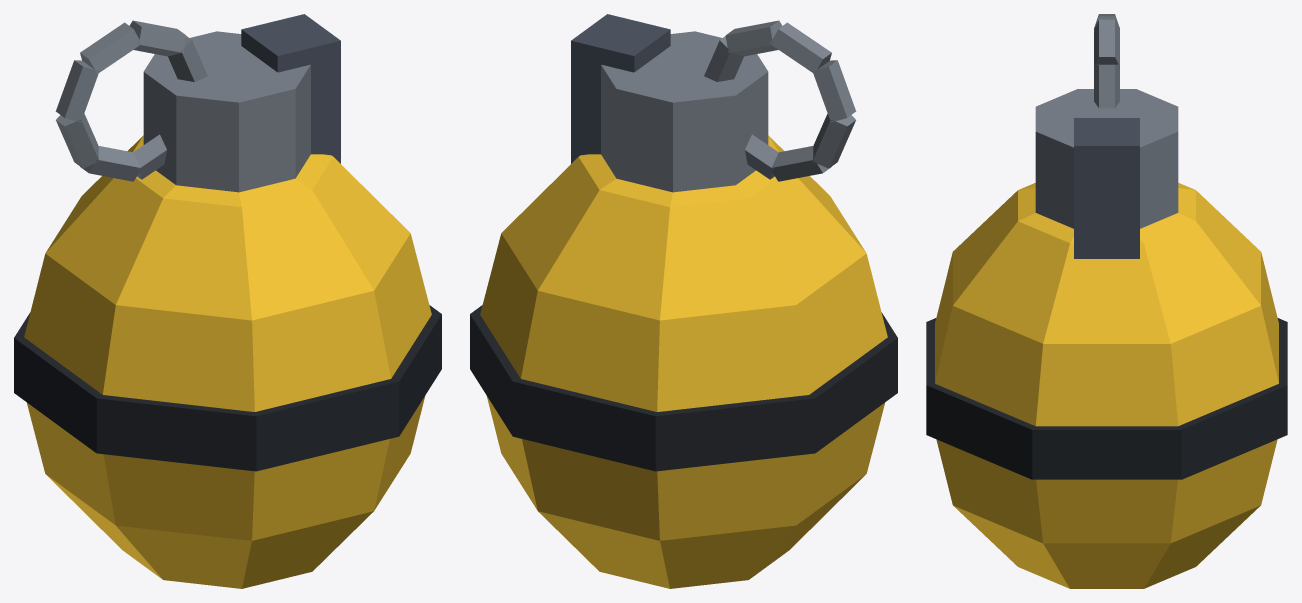
The model's file is paint_grenade_yellow.glb.
3 views of the same model, side by side, from view 1: azimuth 30°, elevation 25°; view 2: azimuth 150°, elevation 25°; view 3: azimuth 270°, elevation 25° (orthographic). The views are drawn at different scales.
Visible parts, largest first — view 1: paint_grenade_yellow; view 2: paint_grenade_yellow; view 3: paint_grenade_yellow.
Part boxes in pixels (x1=…): paint_grenade_yellow: x1=14, y1=14, x2=441, y2=588; paint_grenade_yellow: x1=470, y1=14, x2=897, y2=588; paint_grenade_yellow: x1=926, y1=14, x2=1287, y2=588.
Size of the model in its own units: 0.0656 by 0.1039 by 0.0656.
